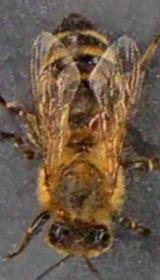varroa_mite: (80, 99, 116, 138)
